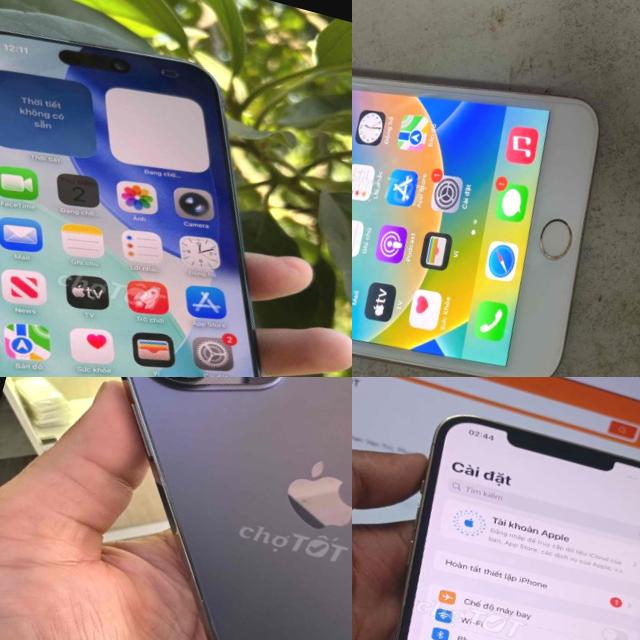scratch: (532, 229, 565, 268)
